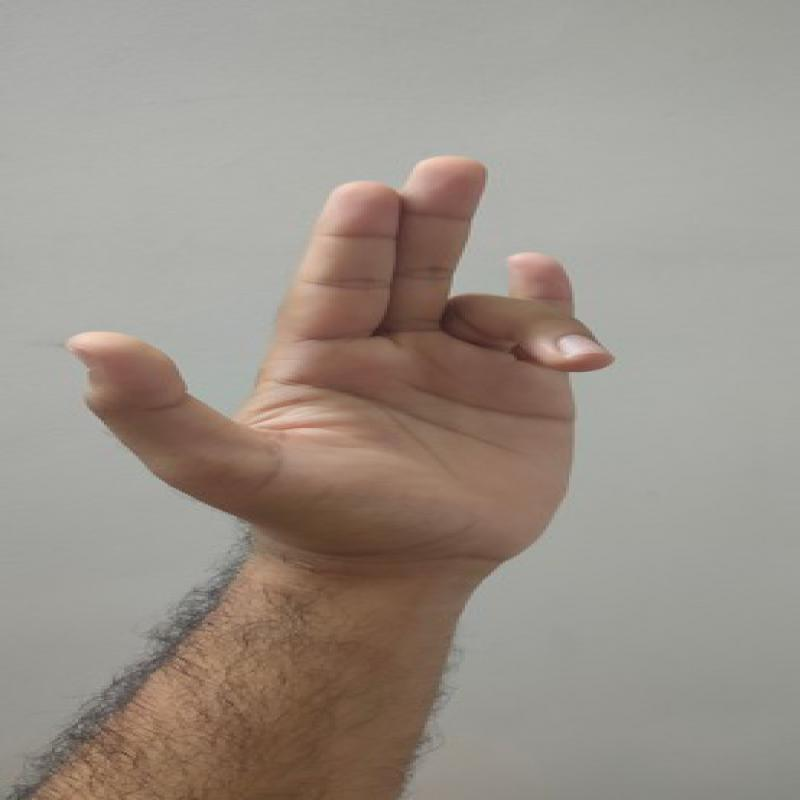Pathaaka: (63, 132, 629, 591)
